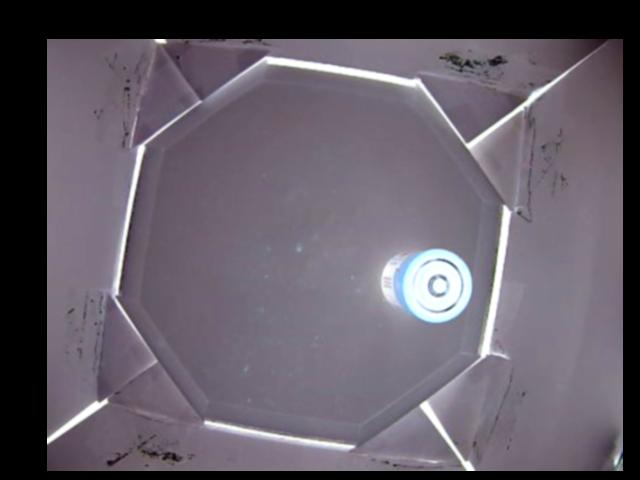Battery: (380, 246, 473, 322)
